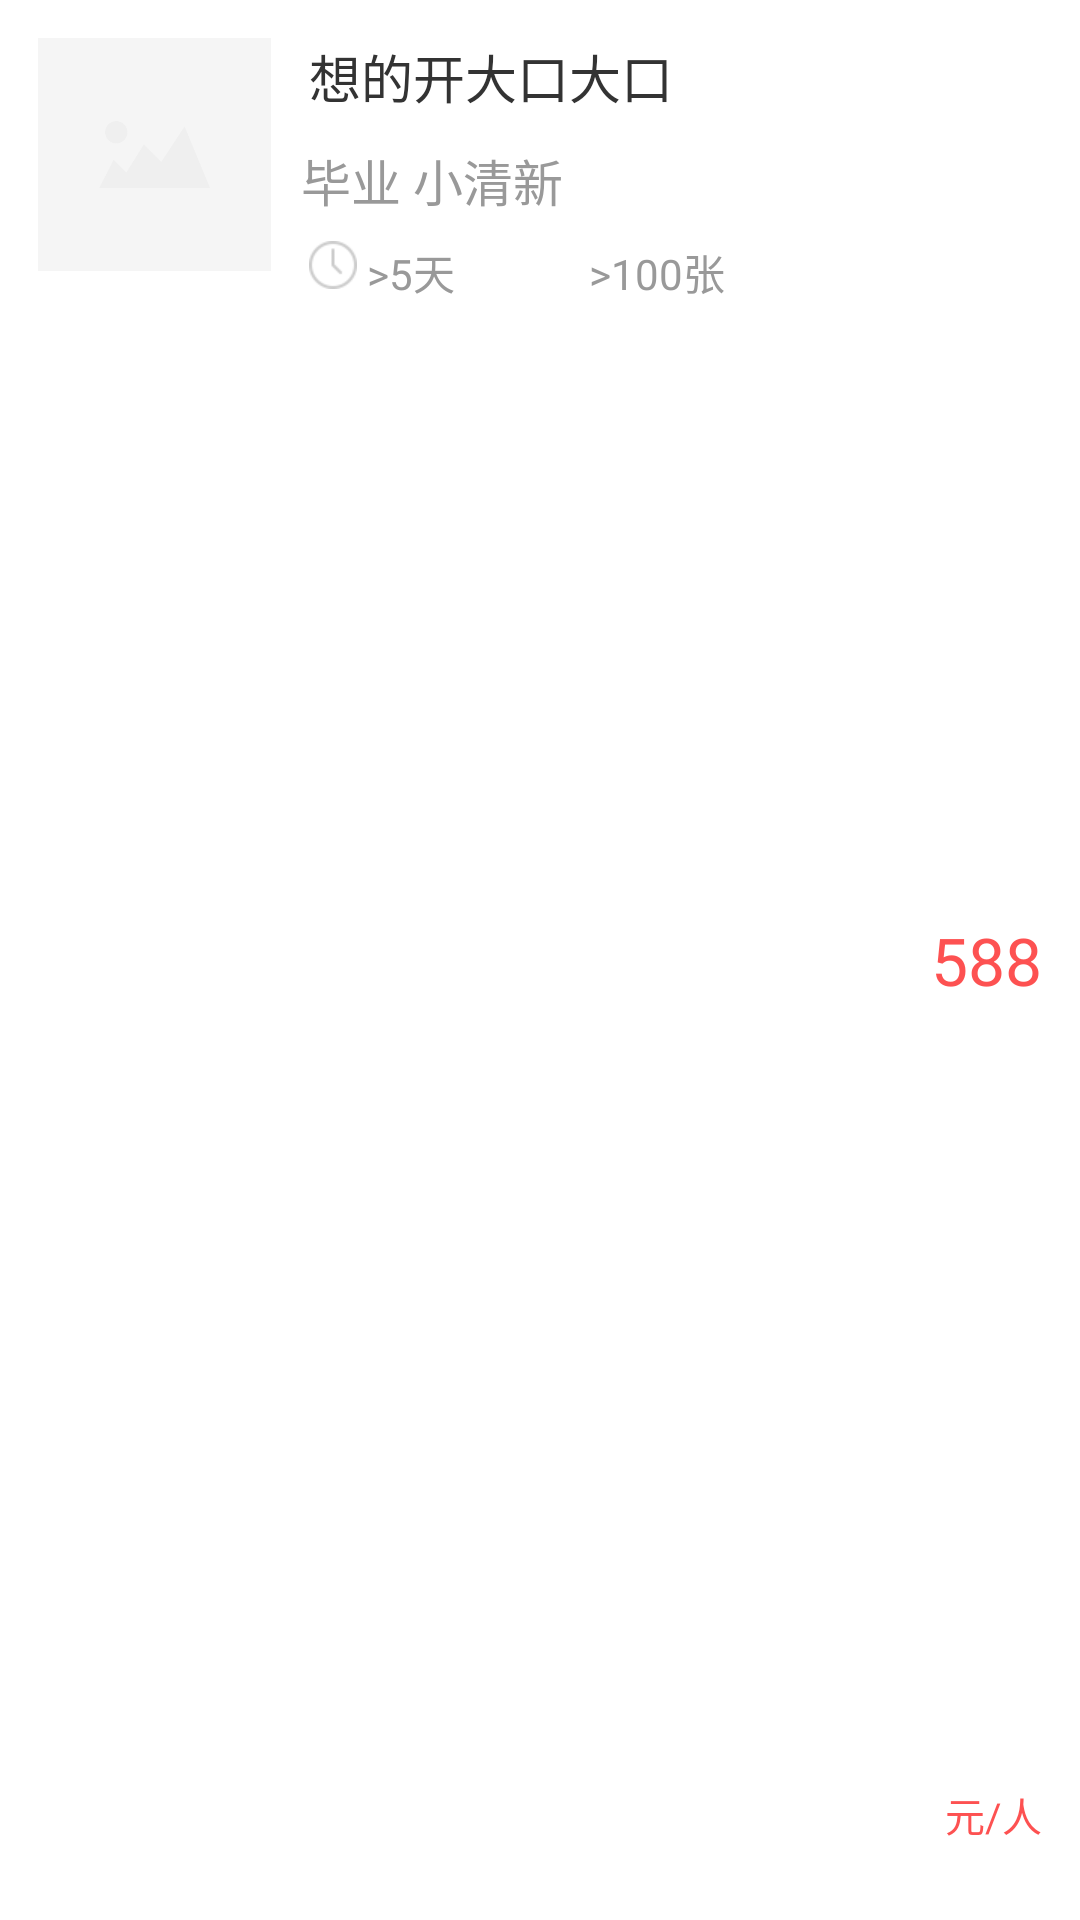

Named icons in this screenshot (1080×1920) and their bounding boxes, [x1, y1, x2, y2]:
item time: [309, 241, 357, 289]
